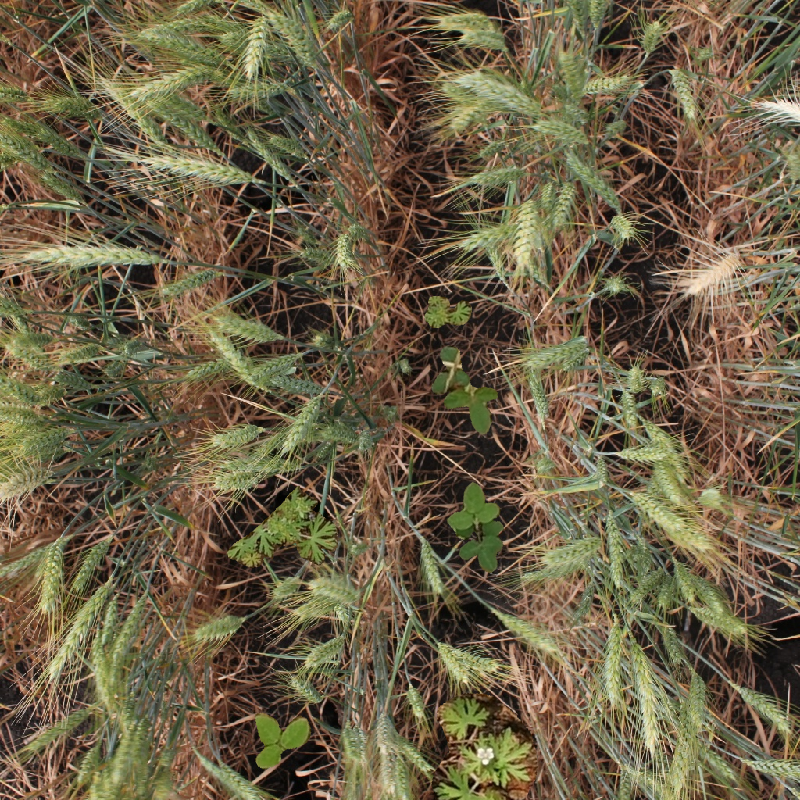spikelet: (25, 234, 166, 273), (44, 589, 102, 680), (629, 490, 712, 553), (144, 146, 257, 192), (445, 67, 545, 118), (97, 75, 167, 142), (624, 640, 665, 753), (126, 56, 223, 102), (564, 148, 626, 211), (136, 23, 224, 65), (267, 6, 324, 68), (156, 111, 226, 156), (373, 714, 410, 799), (241, 127, 297, 182), (642, 418, 690, 482), (680, 249, 742, 298), (734, 682, 793, 733), (108, 595, 148, 670), (492, 610, 560, 654), (19, 116, 84, 158), (139, 87, 210, 125), (1, 127, 56, 175), (69, 535, 113, 594), (629, 488, 686, 533), (521, 335, 590, 372), (281, 393, 324, 451), (111, 717, 149, 781), (600, 620, 627, 709), (205, 325, 252, 376), (35, 537, 66, 614), (211, 310, 283, 343), (239, 10, 274, 77), (211, 761, 269, 800), (158, 263, 219, 299), (511, 197, 542, 267), (540, 535, 600, 571), (602, 508, 628, 590), (688, 601, 747, 637), (1, 461, 54, 501), (666, 65, 702, 123), (442, 96, 495, 135), (689, 570, 731, 617), (15, 424, 74, 457), (622, 765, 679, 799), (35, 166, 86, 204), (211, 459, 269, 492), (4, 329, 51, 369), (223, 75, 290, 103), (554, 48, 588, 102), (457, 220, 514, 252), (435, 8, 504, 34), (648, 461, 687, 507), (531, 116, 590, 146), (92, 595, 119, 660), (754, 96, 800, 134), (434, 641, 472, 686), (306, 573, 359, 605), (748, 755, 800, 787), (417, 536, 445, 595), (547, 177, 577, 232), (393, 734, 433, 775), (469, 161, 526, 189), (39, 91, 98, 118), (251, 350, 302, 381), (192, 613, 244, 643), (209, 421, 263, 449), (685, 670, 709, 732), (265, 130, 311, 162), (303, 634, 346, 668), (699, 746, 737, 784), (454, 26, 509, 52), (449, 645, 500, 673), (86, 761, 122, 799), (657, 621, 686, 667), (1, 373, 43, 404), (526, 367, 551, 419), (268, 372, 322, 396), (290, 597, 344, 621), (72, 742, 101, 786), (672, 559, 699, 605), (57, 339, 103, 365), (184, 356, 228, 383), (584, 71, 631, 96), (618, 441, 671, 463), (340, 722, 367, 765), (1, 396, 41, 425), (557, 336, 590, 371), (637, 17, 666, 55), (263, 514, 302, 542), (286, 674, 322, 704), (1, 290, 31, 326), (319, 418, 358, 445), (616, 389, 641, 431), (634, 566, 666, 597), (53, 367, 91, 393), (332, 231, 356, 271), (404, 682, 428, 721), (297, 243, 334, 268), (608, 212, 638, 242), (269, 574, 301, 602), (309, 328, 341, 354), (227, 543, 263, 566), (32, 379, 65, 404), (324, 6, 355, 32), (779, 144, 799, 184), (587, 1, 614, 30), (655, 576, 678, 610), (474, 137, 509, 159), (600, 272, 629, 297), (332, 600, 360, 625), (697, 483, 725, 507), (625, 363, 646, 394), (601, 116, 628, 140), (354, 427, 377, 454), (1, 80, 26, 104), (562, 1, 592, 21), (345, 220, 371, 243), (647, 374, 668, 397)
weed: (224, 470, 353, 594), (436, 694, 537, 800), (419, 343, 512, 437), (446, 483, 509, 582), (251, 709, 320, 773), (424, 296, 472, 328)
